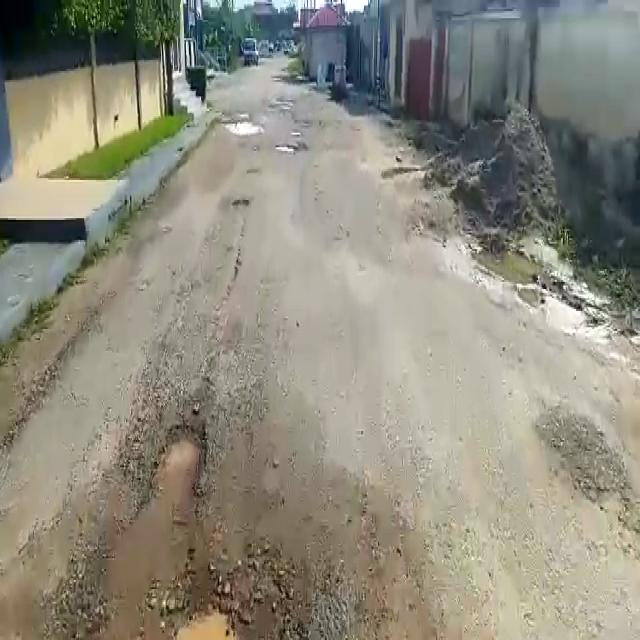Pothole: (149, 420, 210, 502), (221, 118, 264, 136), (275, 144, 298, 156)
